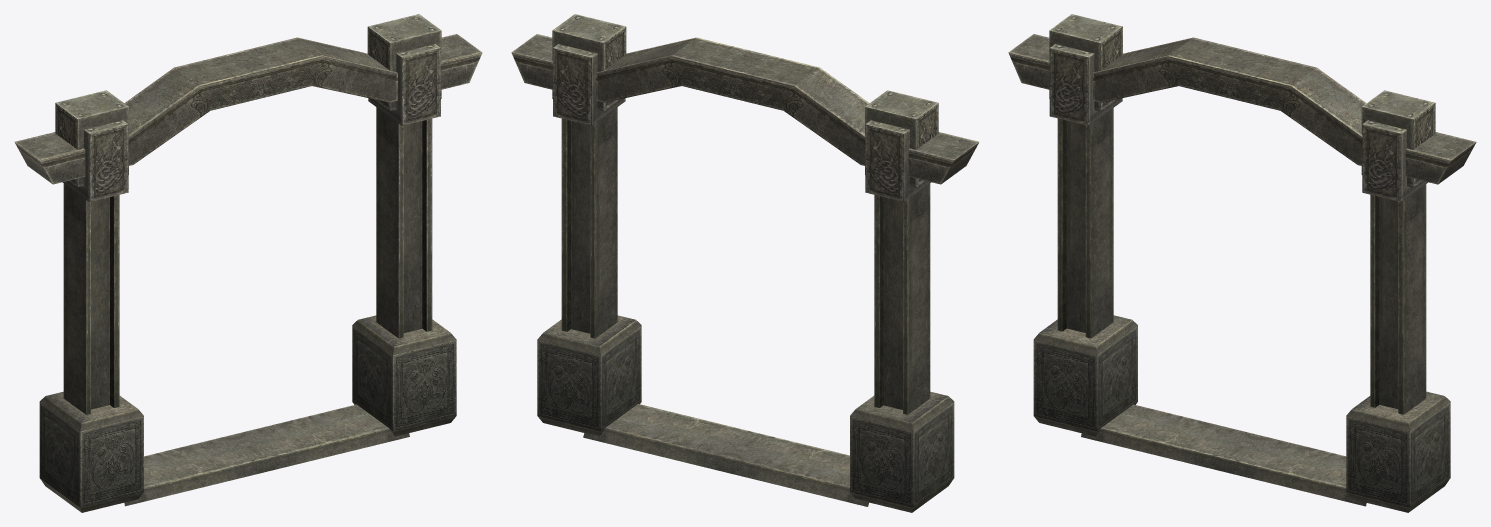
Rendered from dawnmist_gate_s.glb.
The picture shows the model from 3 angles, left to right: view 1: azimuth 30°, elevation 25°; view 2: azimuth 150°, elevation 25°; view 3: azimuth 330°, elevation 25°; orthographic projection.
Parts seen in each view (by area): view 1: Object01; view 2: Object01; view 3: Object01.
Boxes of the visible parts, x1,y1,x2,y2 form: Object01: (14,14,482,512); Object01: (511,14,979,512); Object01: (1008,14,1476,512).
Bounding box in the file's own units: 16.94 × 14.47 × 2.7.
Materials: 1 (1 with a texture image).
